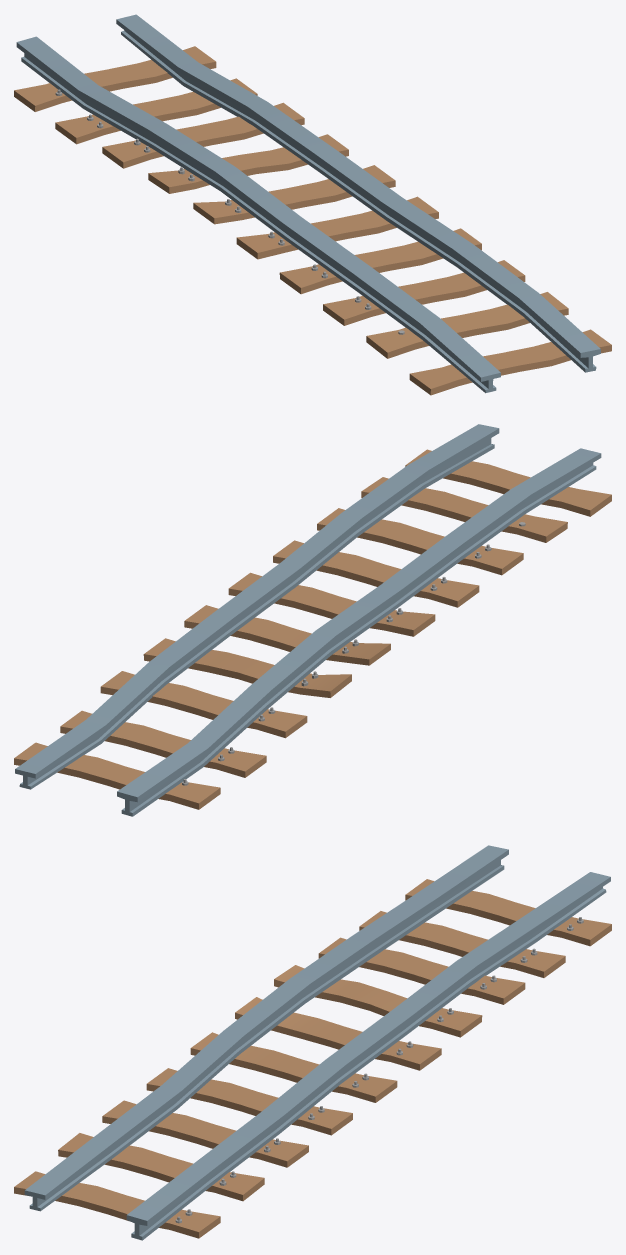
The model's file is rail_tracks.fbx.
3 renders of one model, top to bottom at view 1: azimuth 30°, elevation 25°; view 2: azimuth 150°, elevation 25°; view 3: azimuth 330°, elevation 25°, orthographic. The views are drawn at different scales.
Visible parts, largest first — view 1: polySurface172; view 2: polySurface172; view 3: polySurface172.
Part boxes in pixels (left/top/right/bottom): polySurface172: left=14, top=14, right=611, bottom=395; polySurface172: left=14, top=424, right=611, bottom=816; polySurface172: left=14, top=845, right=611, bottom=1240.
Bounding box in the file's own units: 1.66 × 0.334 × 6.99.
